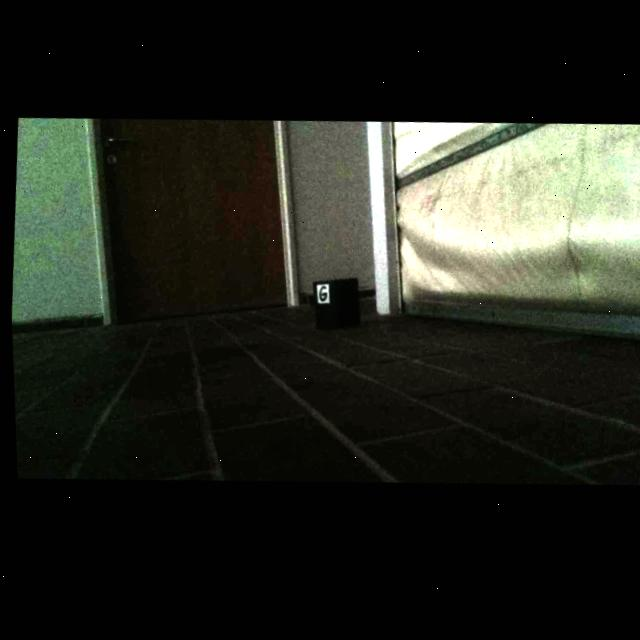G: (316, 290, 325, 305)
